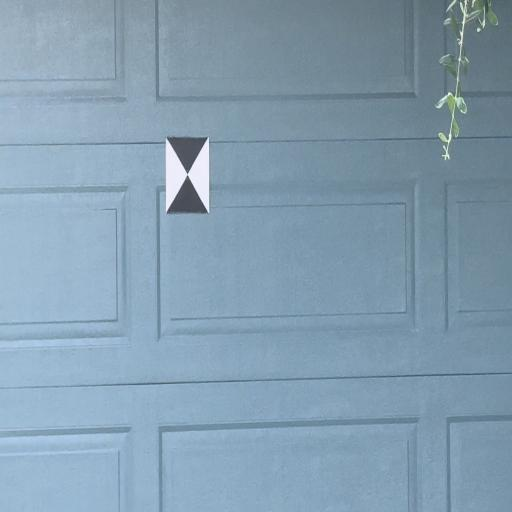target: (166, 138, 209, 213)
